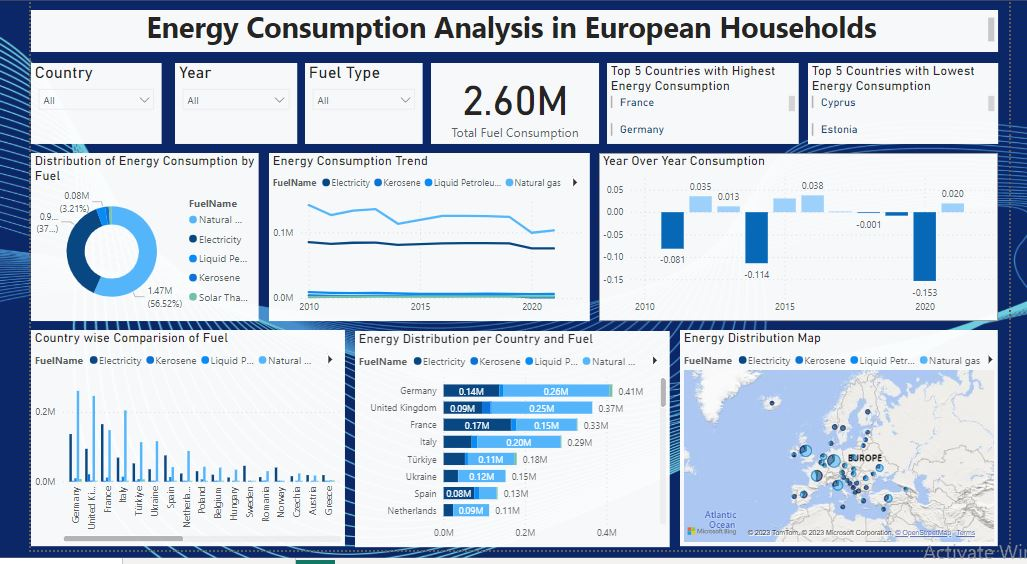

What the dashboard file says about the page in this screenshot:
{"tool":"powerbi","page":{"name":"EuropionUnionDataAnalysis","canvas":[1280,720],"ordinal":0},"visuals":[{"type":"slicer","title":"Year","fields":{"Values":["ten00125__custom_7257799_linear (2).TIME_PERIOD"]},"box":[188.5,82.5,159.7,106],"z":0},{"type":"slicer","title":"Country","fields":{"Values":["Country.CountryName"]},"box":[0,82.5,171.5,106],"z":1000},{"type":"slicer","title":"Fuel Type","fields":{"Values":["Fuel_Type.FuelName"]},"box":[358.7,82.5,154.5,106],"z":2000},{"type":"lineChart","title":"Energy Consumption Trend","fields":{"Series":["Fuel_Type.FuelName"],"Category":["ten00125__custom_7257799_linear (2).TIME_PERIOD"],"Y":["Sum(ten00125__custom_7257799_linear (2).OBS_VALUE)"]},"box":[311.6,200.3,420.2,219.9],"z":3000},{"type":"clusteredColumnChart","title":"Country wise Comparision of Fuel ","fields":{"Category":["Country.CountryName"],"Series":["Fuel_Type.FuelName"],"Y":["Sum(ten00125__custom_7257799_linear (2).OBS_VALUE)"]},"box":[0,432,411.1,282.8],"z":4000},{"type":"map","title":"Energy Distribution Map","fields":{"Category":["Country.CountryName"],"Size":["Sum(ten00125__custom_7257799_linear (2).OBS_VALUE)"],"Series":["Fuel_Type.FuelName"]},"box":[849.6,432,416.3,282.8],"z":5000},{"type":"barChart","title":"Energy Distribution per Country and Fuel","fields":{"Category":["Country.CountryName"],"Series":["Fuel_Type.FuelName"],"Y":["Sum(ten00125__custom_7257799_linear (2).OBS_VALUE)"]},"box":[424.1,433.3,412.4,282.8],"z":6000},{"type":"donutChart","title":"Distribution of Energy Consumption by Fuel","fields":{"Category":["Fuel_Type.FuelName"],"Y":["Sum(ten00125__custom_7257799_linear (2).OBS_VALUE)"]},"box":[0,200.3,298.5,219.9],"z":7000},{"type":"card","fields":{"Values":["Measured Value Table.EU_TotalEnergyConsumption"]},"box":[523.6,82.5,219.9,106],"z":8000},{"type":"clusteredColumnChart","title":"Year Over Year Consumption ","fields":{"Category":["ten00125__custom_7257799_linear (2).TIME_PERIOD"],"Y":["Measured Value Table.YoY_percent_change"]},"box":[743.6,200.3,522.3,219.9],"z":10000},{"type":"multiRowCard","title":"Top 5 Countries with Lowest  Energy Consumption","fields":{"Values":["Country.CountryName"]},"box":[1017.2,82.5,248.7,106],"z":10001},{"type":"multiRowCard","title":"Top 5 Countries with Highest Energy Consumption","fields":{"Values":["Country.CountryName"]},"box":[754,82.5,251.3,106],"z":10002},{"type":"textbox","box":[0,13.1,1265.9,55],"z":10003}]}

Visuals, with their boxes in screenshot pixels (x1, y1, x2, y2):
"Year" slicer: bbox(172, 61, 296, 143)
"Country" slicer: bbox(27, 61, 159, 143)
"Fuel Type" slicer: bbox(304, 61, 423, 143)
"Energy Consumption Trend" lineChart: bbox(268, 152, 592, 322)
"Country wise Comparision of Fuel " clusteredColumnChart: bbox(27, 331, 344, 550)
"Energy Distribution Map" map: bbox(683, 331, 1005, 550)
"Energy Distribution per Country and Fuel" barChart: bbox(355, 332, 673, 551)
"Distribution of Energy Consumption by Fuel" donutChart: bbox(27, 152, 257, 322)
card - Measured Value Table.EU_TotalEnergyConsumption: bbox(431, 61, 601, 143)
"Year Over Year Consumption " clusteredColumnChart: bbox(601, 152, 1005, 322)
"Top 5 Countries with Lowest  Energy Consumption" multiRowCard: bbox(813, 61, 1005, 143)
"Top 5 Countries with Highest Energy Consumption" multiRowCard: bbox(610, 61, 804, 143)
textbox: bbox(27, 7, 1005, 50)
